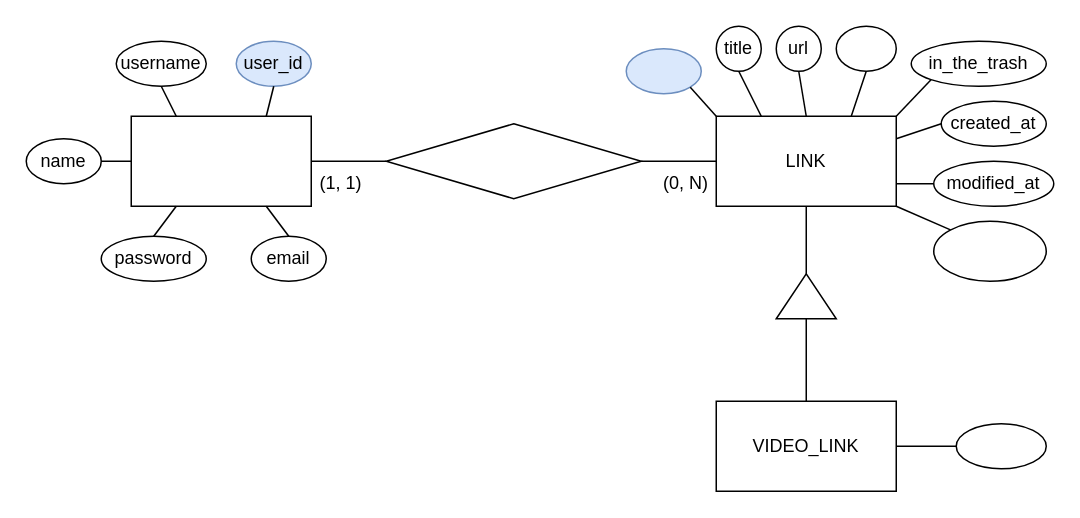
This 1080x518 diagram has some shape labels left out. Each missing label, with the box of its shape:
categories (1, N): (932, 220, 1046, 281)
duration: (955, 422, 1046, 469)
Has: (385, 122, 641, 199)
link_id: (625, 47, 701, 94)
USER: (130, 115, 311, 206)
views: (835, 25, 896, 71)
